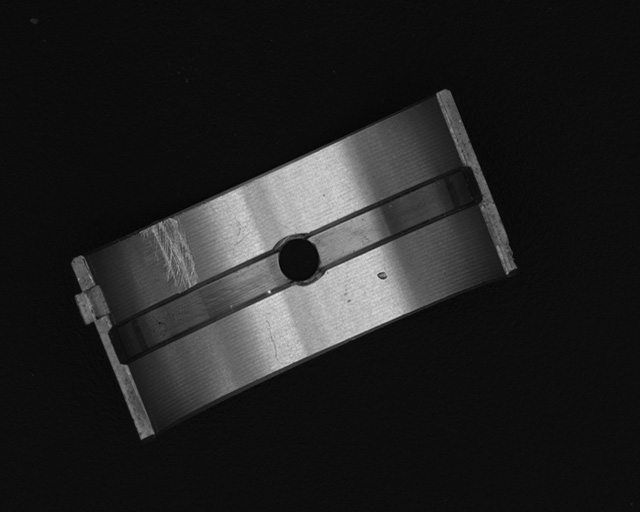bruise: (377, 270, 389, 282)
gap: (113, 255, 290, 364), (311, 168, 479, 263)
hole: (278, 236, 321, 285)
nick: (266, 321, 279, 365)
scratch: (142, 217, 198, 292)
